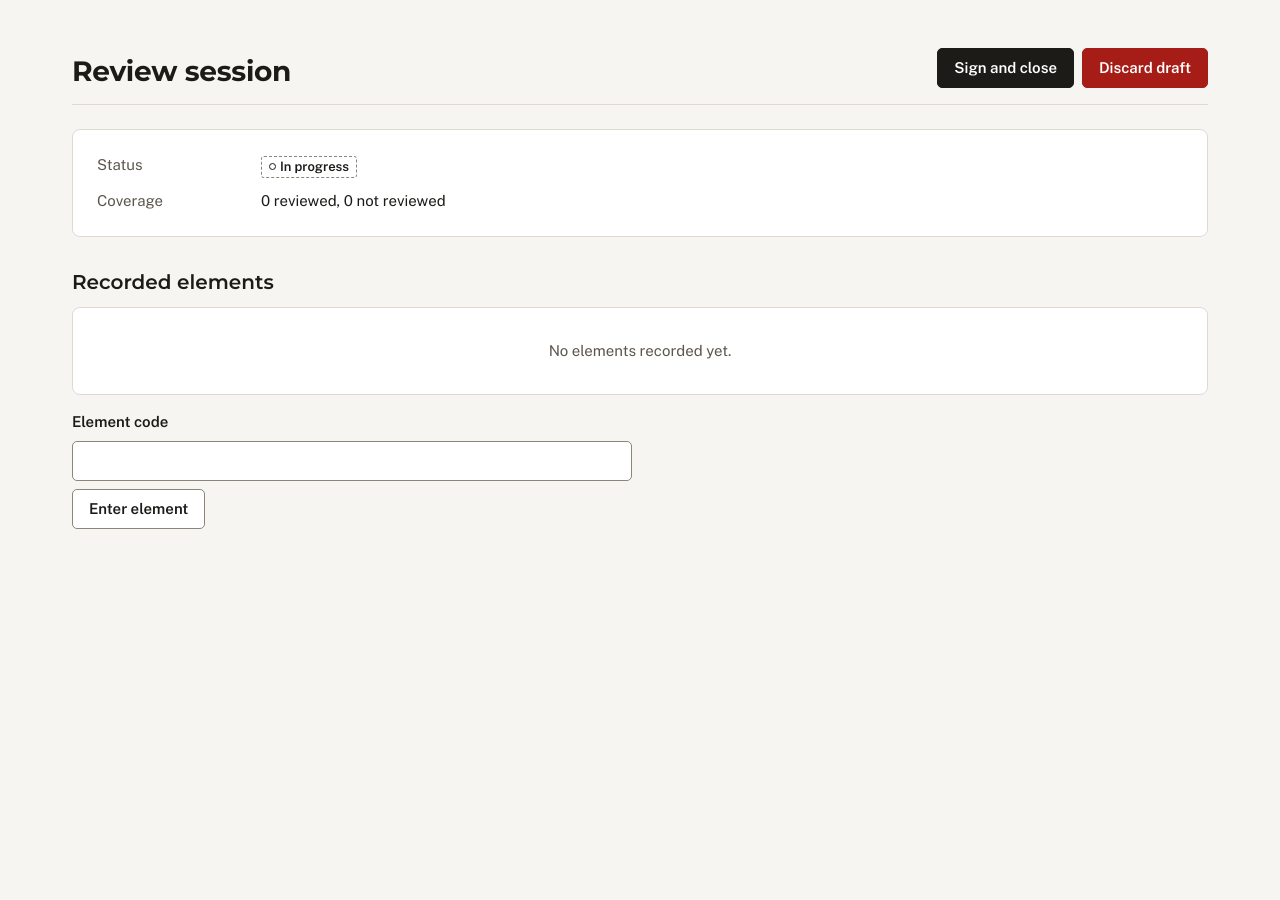
Test case: ReviewSessionDetailPage › warns in the confirmation dialog that the review closes and cannot be modified, and labels its confirm control Sign and close too
The image size is (1280, 900).
Click the button with test id "review-session-detail-complete". click: (1006, 68)
box: [937,48,1074,88]
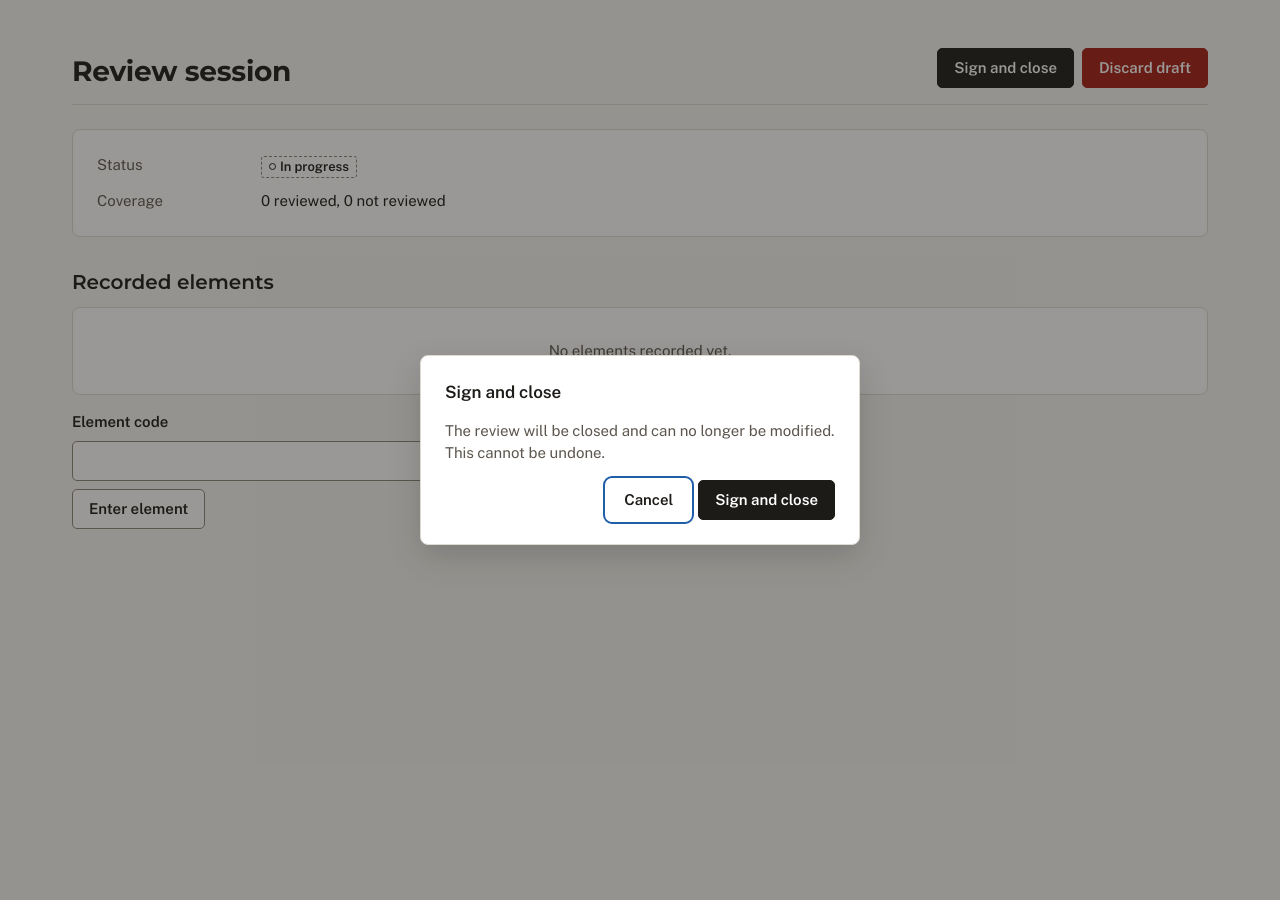
Check: the text "no longer be modified" is shown, box [445,422,834,461]
Check: the button with test id "confirm-dialog-confirm" reads "Sign and close", box [698,480,835,520]
